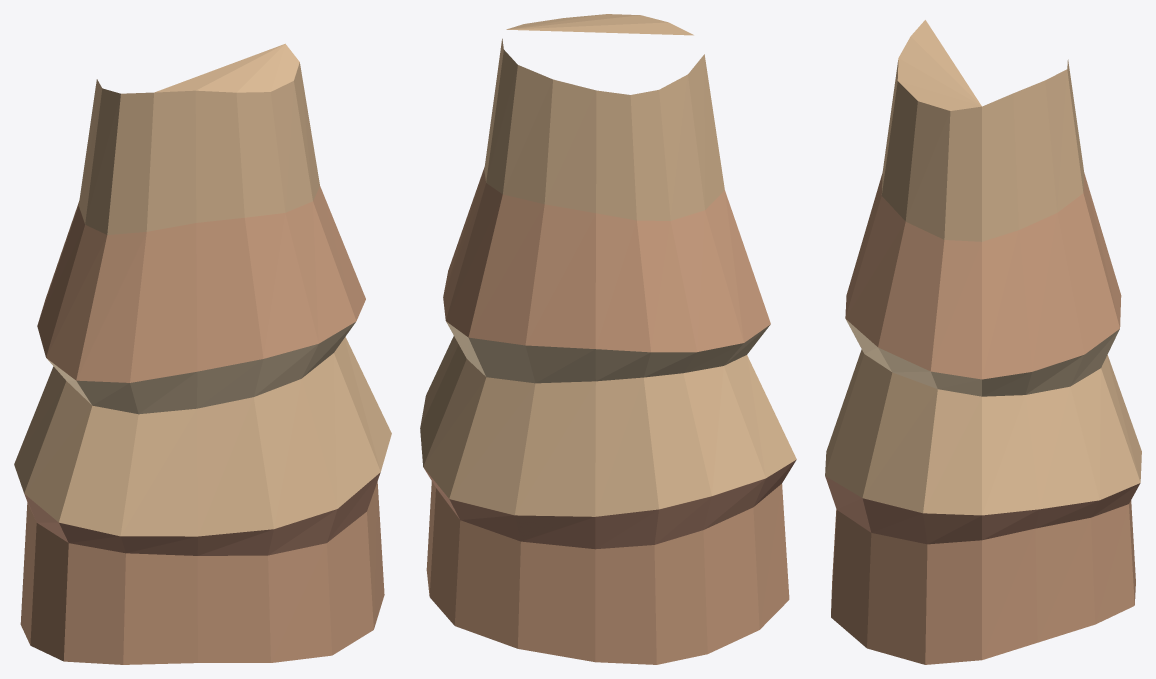
The picture shows the model from 3 angles, left to right: view 1: azimuth 30°, elevation 25°; view 2: azimuth 150°, elevation 25°; view 3: azimuth 270°, elevation 25°; orthographic projection. The views are drawn at different scales.
Bounding box in the file's own units: 12.96 × 20.39 × 10.84.
